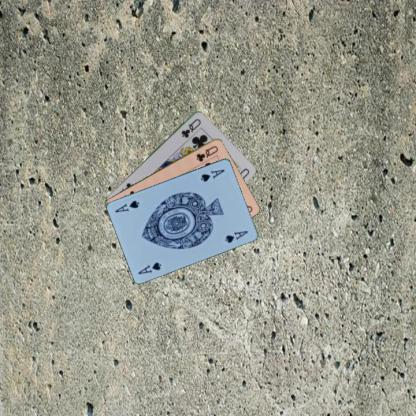As: (198, 166, 226, 182), (136, 259, 162, 275)
Qc: (179, 116, 202, 139), (194, 143, 220, 163)
